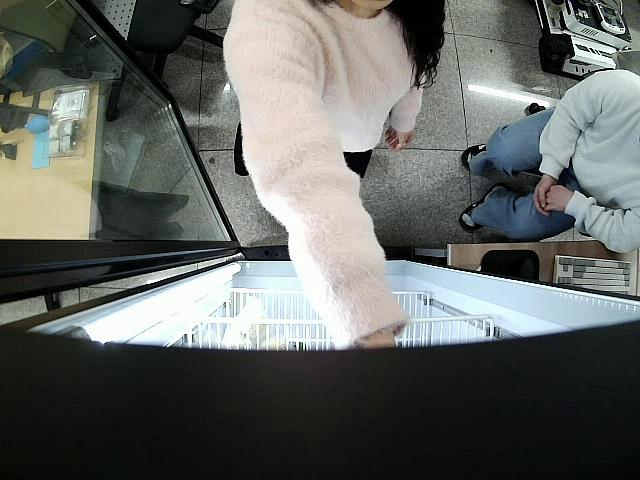00_hand: (383, 123, 413, 153)
